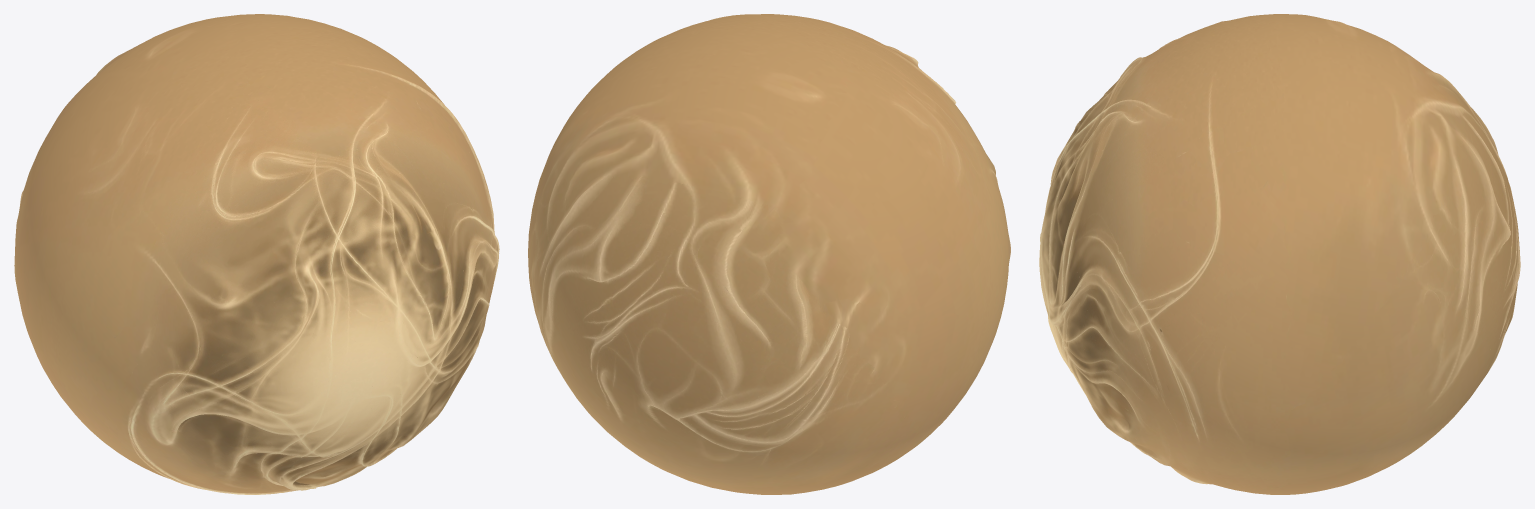
The model's file is sf-first-light-orb-slim.glb.
The picture shows the model from 3 angles, left to right: view 1: azimuth 30°, elevation 25°; view 2: azimuth 150°, elevation 25°; view 3: azimuth 270°, elevation 25°; orthographic projection.
Size of the model in its own units: 1.9 by 1.9 by 1.9.
1 material, 1 textured.
